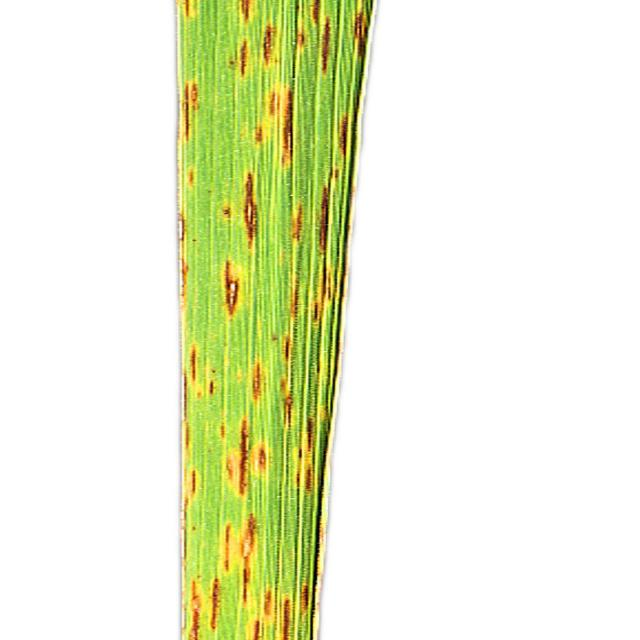Narrow brown: (128, 0, 428, 640)
